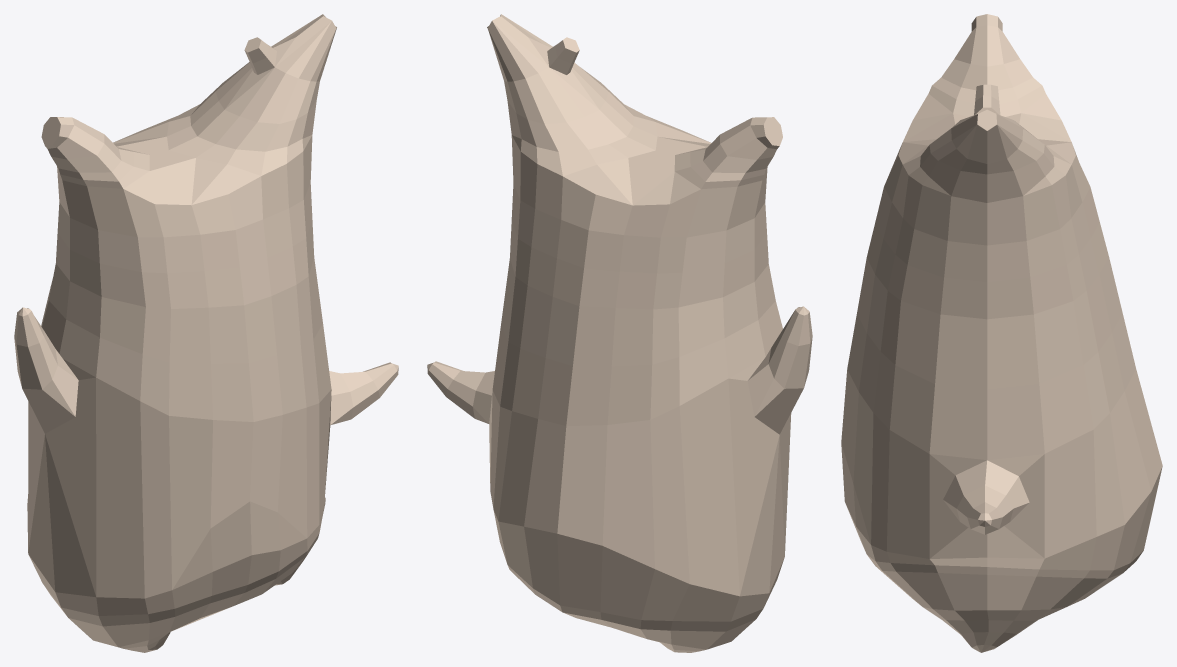
Rendered from frame_0107.obj.
The picture shows the model from 3 angles, left to right: view 1: azimuth 30°, elevation 25°; view 2: azimuth 150°, elevation 25°; view 3: azimuth 270°, elevation 25°; orthographic projection.
Parts seen in each view (by area): view 1: korok; view 2: korok; view 3: korok.
Part boxes in pixels (x1,y1,x2,y2): korok: [14, 14, 398, 652]; korok: [427, 14, 812, 652]; korok: [841, 14, 1162, 652].
Bounding box in the file's own units: 1.49 × 2.2 × 1.07.
